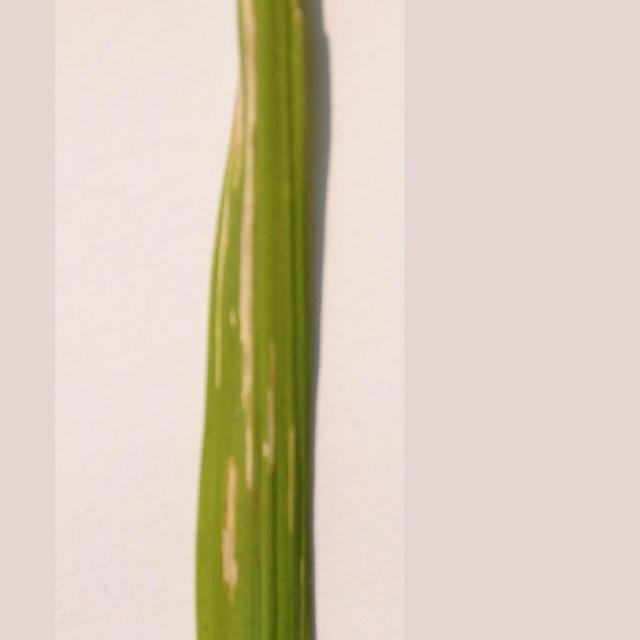leaf blight: (201, 1, 281, 590)
